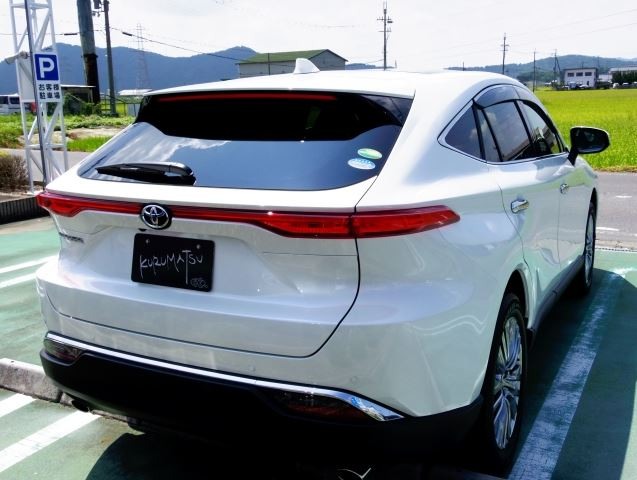car: (28, 61, 613, 478)
